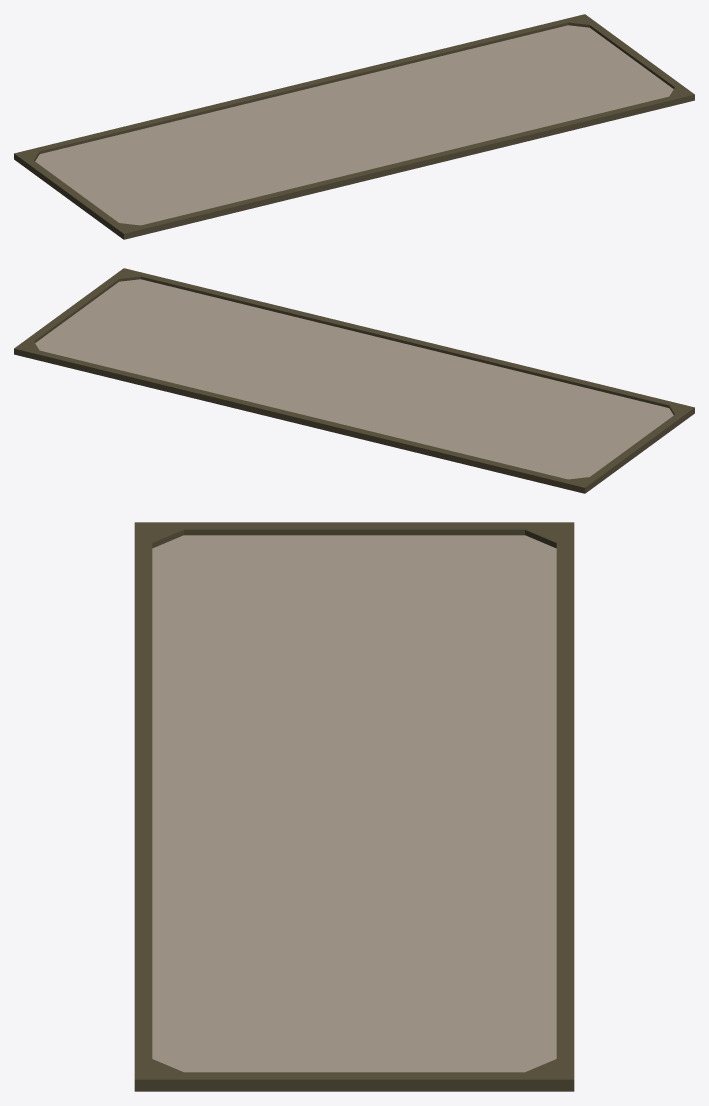
File: SMOD_Skyroad_02.fbx
3 views of the same model, one above another, from view 1: azimuth 30°, elevation 25°; view 2: azimuth 150°, elevation 25°; view 3: azimuth 270°, elevation 25° (orthographic). The views are drawn at different scales.
Visible parts, largest first — view 1: SMOD_Skyroad; view 2: SMOD_Skyroad; view 3: SMOD_Skyroad.
Boxes of the visible parts, x1,y1,x2,y2 form: SMOD_Skyroad: (14,14,694,239); SMOD_Skyroad: (14,268,694,493); SMOD_Skyroad: (134,522,574,1091).
Bounding box in the file's own units: 3000 × 30 × 1000.
